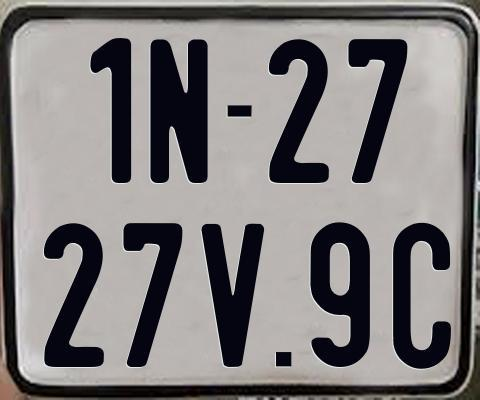1: (89, 38, 136, 183)
2: (269, 38, 331, 182), (43, 220, 104, 366)
7: (345, 37, 407, 181), (122, 220, 182, 365)
9: (310, 219, 376, 366)
C: (391, 223, 452, 375)
N: (149, 37, 208, 186)
V: (200, 224, 269, 368)
